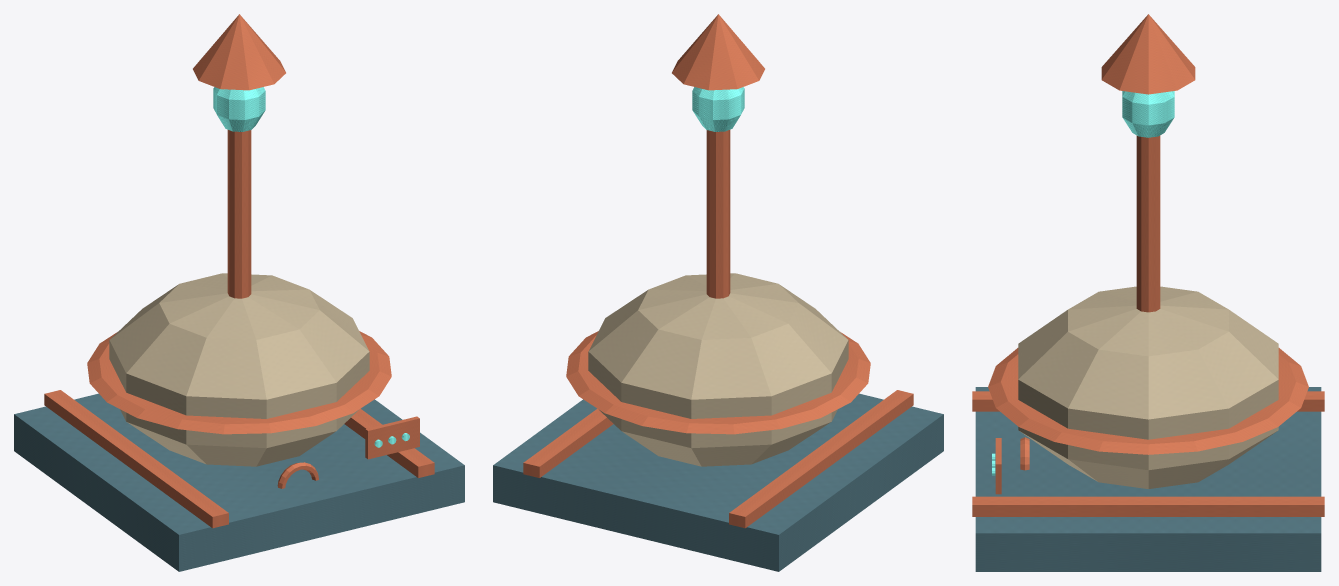
Rendered from atlas100-s044-a01.glb.
3 views of the same model, side by side, from view 1: azimuth 30°, elevation 25°; view 2: azimuth 150°, elevation 25°; view 3: azimuth 270°, elevation 25° (orthographic). The views are drawn at different scales.
Parts seen in each view (by area): view 1: atlas100-s044-a01:part-000, atlas100-s044-a01:part-003, atlas100-s044-a01:part-004, atlas100-s044-a01:part-001, atlas100-s044-a01:part-008, atlas100-s044-a01:part-005, atlas100-s044-a01:part-007, atlas100-s044-a01:part-010, atlas100-s044-a01:part-002; view 2: atlas100-s044-a01:part-000, atlas100-s044-a01:part-003, atlas100-s044-a01:part-004, atlas100-s044-a01:part-001, atlas100-s044-a01:part-008, atlas100-s044-a01:part-005, atlas100-s044-a01:part-002, atlas100-s044-a01:part-007; view 3: atlas100-s044-a01:part-003, atlas100-s044-a01:part-000, atlas100-s044-a01:part-004, atlas100-s044-a01:part-002, atlas100-s044-a01:part-008, atlas100-s044-a01:part-005, atlas100-s044-a01:part-007, atlas100-s044-a01:part-001.
Boxes of the visible parts, x1=… form: atlas100-s044-a01:part-000: x1=14, y1=393, x2=464, y2=571; atlas100-s044-a01:part-003: x1=109, y1=273, x2=369, y2=466; atlas100-s044-a01:part-004: x1=87, y1=331, x2=391, y2=434; atlas100-s044-a01:part-001: x1=44, y1=390, x2=228, y2=528; atlas100-s044-a01:part-008: x1=193, y1=14, x2=285, y2=90; atlas100-s044-a01:part-005: x1=227, y1=130, x2=251, y2=298; atlas100-s044-a01:part-007: x1=213, y1=87, x2=265, y2=131; atlas100-s044-a01:part-010: x1=365, y1=416, x2=419, y2=459; atlas100-s044-a01:part-002: x1=344, y1=408, x2=434, y2=477; atlas100-s044-a01:part-000: x1=493, y1=393, x2=943, y2=571; atlas100-s044-a01:part-003: x1=588, y1=273, x2=848, y2=466; atlas100-s044-a01:part-004: x1=566, y1=331, x2=870, y2=434; atlas100-s044-a01:part-001: x1=729, y1=390, x2=913, y2=528; atlas100-s044-a01:part-008: x1=672, y1=14, x2=764, y2=90; atlas100-s044-a01:part-005: x1=706, y1=130, x2=730, y2=298; atlas100-s044-a01:part-002: x1=523, y1=408, x2=613, y2=477; atlas100-s044-a01:part-007: x1=692, y1=87, x2=744, y2=131; atlas100-s044-a01:part-003: x1=1018, y1=286, x2=1278, y2=488; atlas100-s044-a01:part-000: x1=975, y1=387, x2=1321, y2=571; atlas100-s044-a01:part-004: x1=988, y1=348, x2=1308, y2=454; atlas100-s044-a01:part-002: x1=972, y1=496, x2=1324, y2=516; atlas100-s044-a01:part-008: x1=1101, y1=14, x2=1195, y2=94; atlas100-s044-a01:part-005: x1=1136, y1=135, x2=1160, y2=312; atlas100-s044-a01:part-007: x1=1122, y1=91, x2=1174, y2=137; atlas100-s044-a01:part-001: x1=972, y1=391, x2=1324, y2=411.
Bounding box in the file's own units: 2.1 × 3.25 × 2.14.
Materials: 4 (4 with a texture image).
